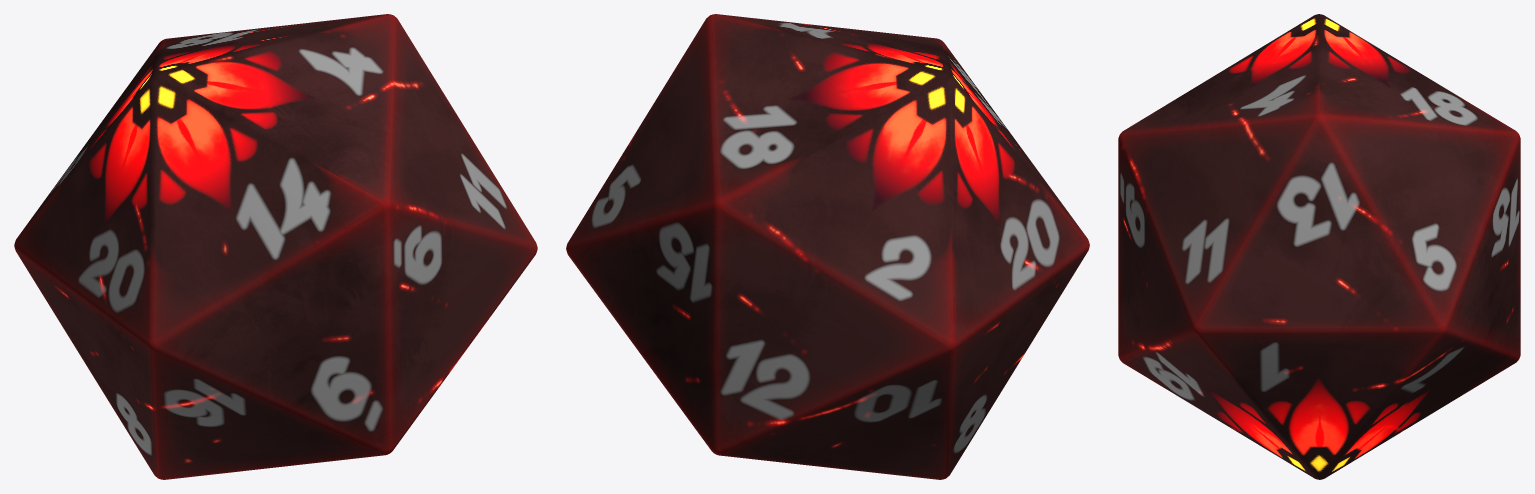
File: kat_d20.glb
3 views of the same model, side by side, from view 1: azimuth 30°, elevation 25°; view 2: azimuth 150°, elevation 25°; view 3: azimuth 270°, elevation 25° (orthographic). The views are drawn at different scales.
Visible parts, largest first — view 1: d20Kat; view 2: d20Kat; view 3: d20Kat.
Part boxes in pixels (x1,y1,x2,y2): d20Kat: [14, 14, 537, 479]; d20Kat: [566, 14, 1089, 479]; d20Kat: [1118, 14, 1520, 479].
Bounding box in the file's own units: 156 × 157 × 156.
1 material, 1 textured.
